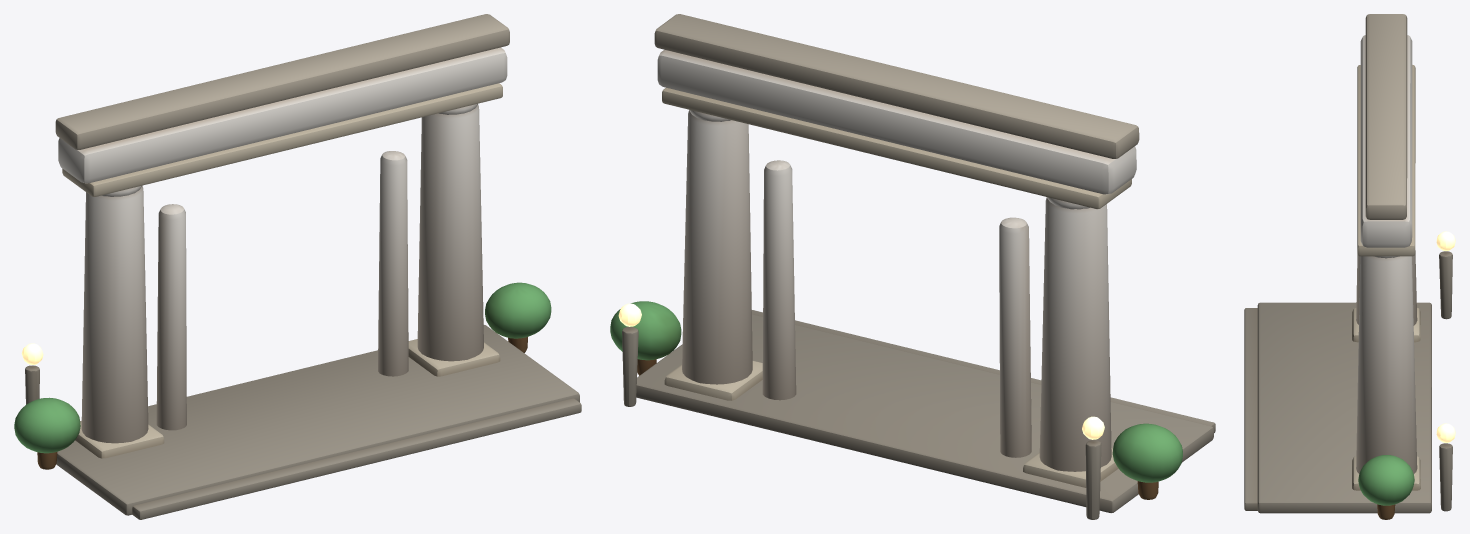
3 views of the same model, side by side, from view 1: azimuth 30°, elevation 25°; view 2: azimuth 150°, elevation 25°; view 3: azimuth 270°, elevation 25° (orthographic). The views are drawn at different scales.
Parts seen in each view (by area): view 1: gate_9597818e; view 2: gate_9597818e; view 3: gate_9597818e.
Boxes of the visible parts, x1,y1,x2,y2 form: gate_9597818e: [14, 14, 581, 519]; gate_9597818e: [610, 14, 1215, 519]; gate_9597818e: [1244, 14, 1455, 519].
Size of the model in its own units: 6.68 by 4.07 by 2.54.
